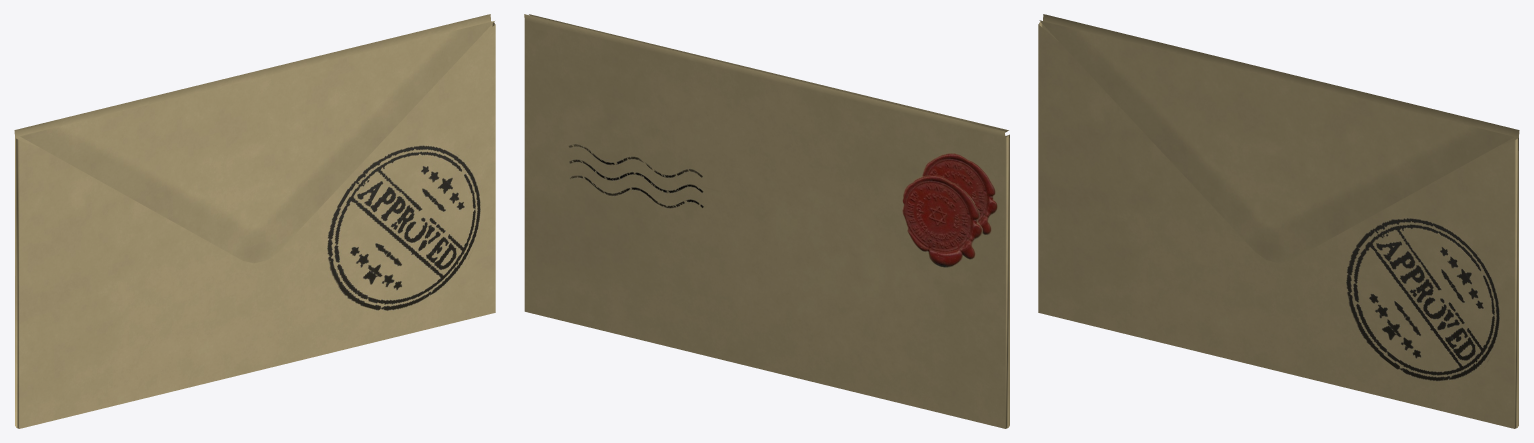
File: Envelope.gltf
3 views of the same model, side by side, from view 1: azimuth 30°, elevation 25°; view 2: azimuth 150°, elevation 25°; view 3: azimuth 330°, elevation 25° (orthographic).
Visible parts, largest first — view 1: defaultMaterial; view 2: defaultMaterial; view 3: defaultMaterial.
Part boxes in pixels (x1,y1,x2,y2): defaultMaterial: (14,14,495,428); defaultMaterial: (524,14,1009,428); defaultMaterial: (1038,14,1519,428).
Bounding box in the file's own units: 0.5598 × 0.3312 × 0.0171.
1 material, 1 textured.
